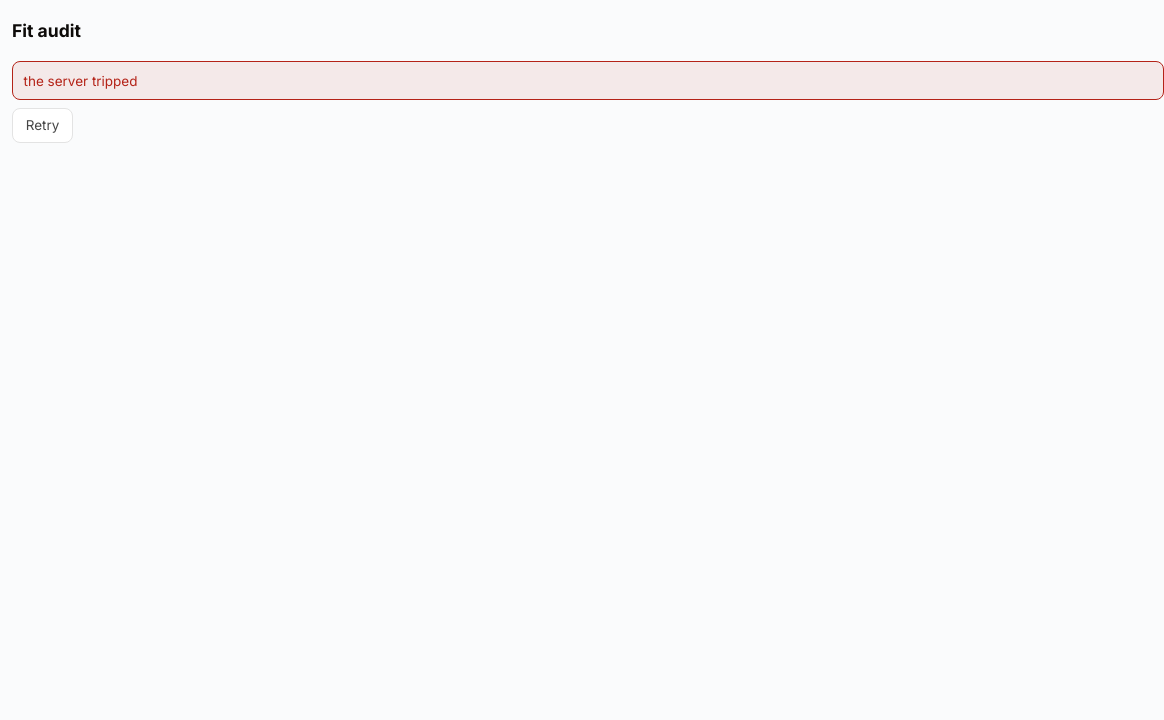
Test: FitAuditTab — the checks › shows why the audit could not be read, with a Retry that reads it again
The width and height of the screenshot is (1164, 720).
Expected: the message reads "the server tripped", top-left (24, 73), bottom-right (138, 89)
Step 1. Click the button "Retry" → coordinates (43, 126), box top-left (12, 108), bottom-right (73, 144)
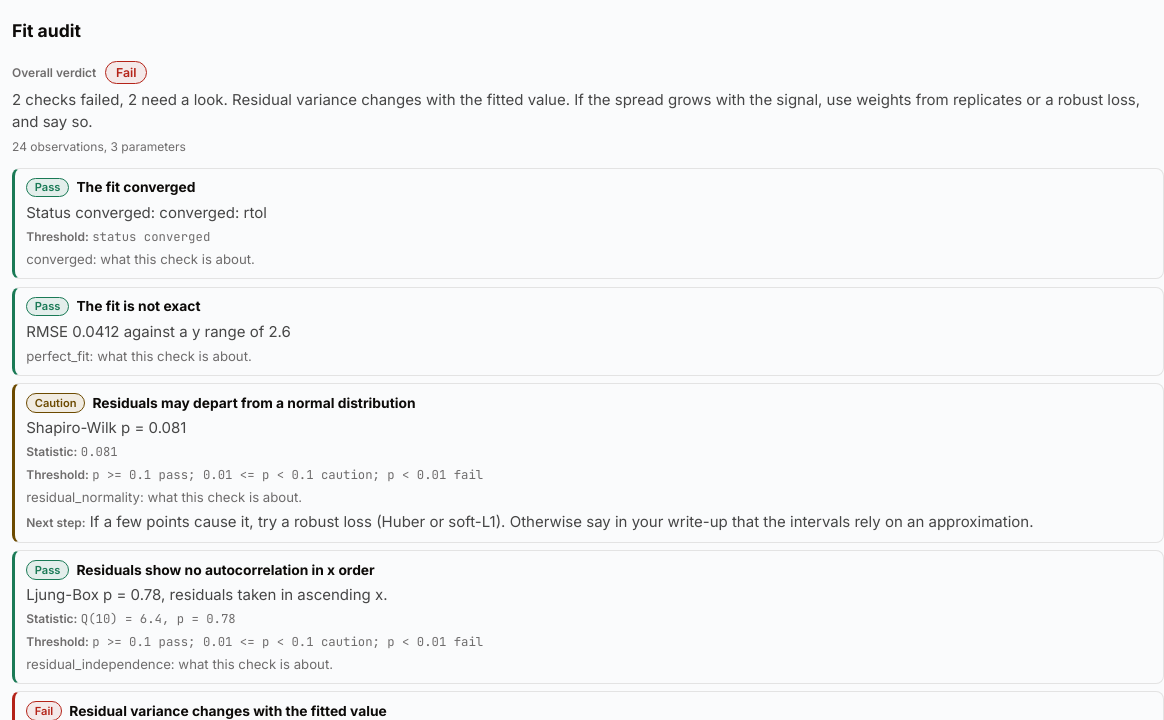
Now the message "the server tripped" is gone
